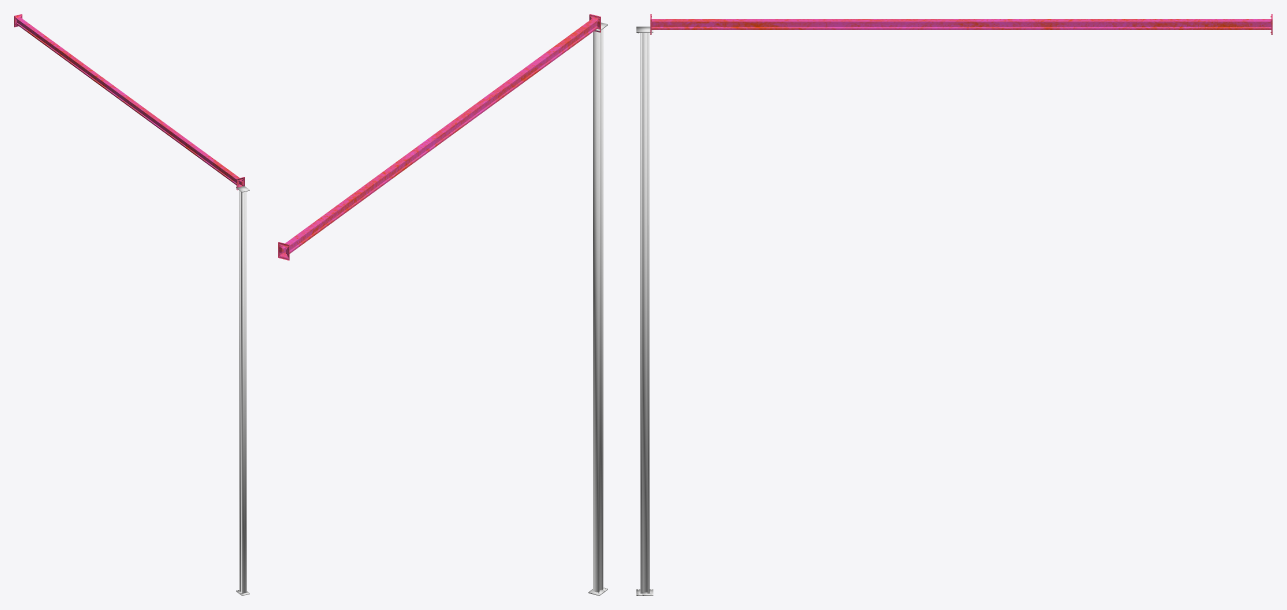
File: SM_Beam_Ceiling_Warehouse_02.fbx
3 views of the same model, side by side, from view 1: azimuth 30°, elevation 25°; view 2: azimuth 150°, elevation 25°; view 3: azimuth 270°, elevation 25° (orthographic). The views are drawn at different scales.
Visible parts, largest first — view 1: SM_Beam_Ceiling_Warehouse_02_ConvexHulls, SM_Beam_Ceiling_Warehouse_02; view 2: SM_Beam_Ceiling_Warehouse_02_ConvexHulls, SM_Beam_Ceiling_Warehouse_02; view 3: SM_Beam_Ceiling_Warehouse_02, SM_Beam_Ceiling_Warehouse_02_ConvexHulls.
Part boxes in pixels (x1=…): SM_Beam_Ceiling_Warehouse_02_ConvexHulls: x1=236, y1=186, x2=249, y2=595; SM_Beam_Ceiling_Warehouse_02: x1=14, y1=14, x2=244, y2=190; SM_Beam_Ceiling_Warehouse_02_ConvexHulls: x1=588, y1=22, x2=607, y2=595; SM_Beam_Ceiling_Warehouse_02: x1=278, y1=14, x2=600, y2=260; SM_Beam_Ceiling_Warehouse_02: x1=650, y1=14, x2=1272, y2=34; SM_Beam_Ceiling_Warehouse_02_ConvexHulls: x1=636, y1=26, x2=653, y2=595.
Bounding box in the file's own units: 0.4813 × 24.12 × 24.12.
